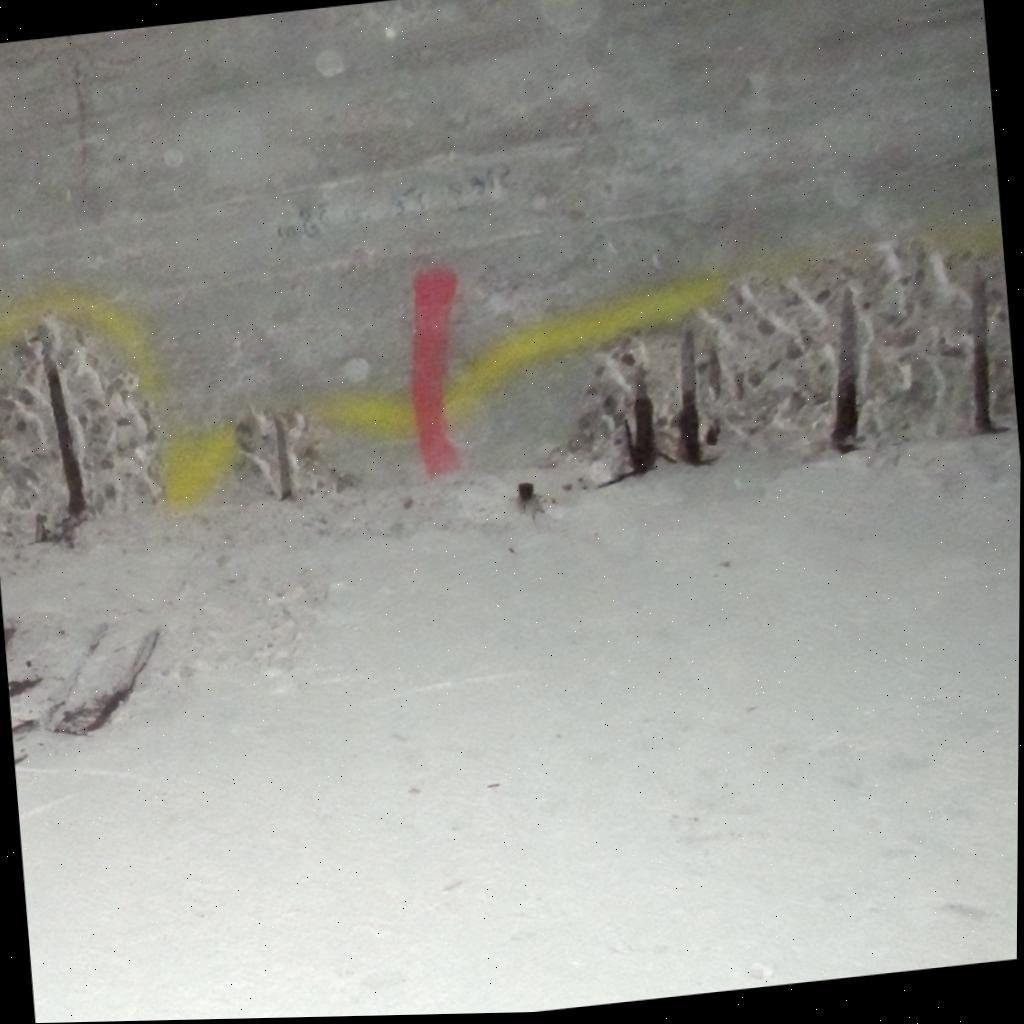exposed_rebar: (38, 327, 86, 518), (970, 265, 1003, 432), (831, 287, 860, 451), (54, 677, 134, 734), (624, 366, 656, 474), (678, 328, 702, 464), (272, 416, 292, 499), (9, 676, 42, 697), (3, 621, 16, 647)
spalling: (568, 240, 1016, 479), (0, 320, 163, 541), (3, 606, 202, 737), (237, 410, 333, 495)
